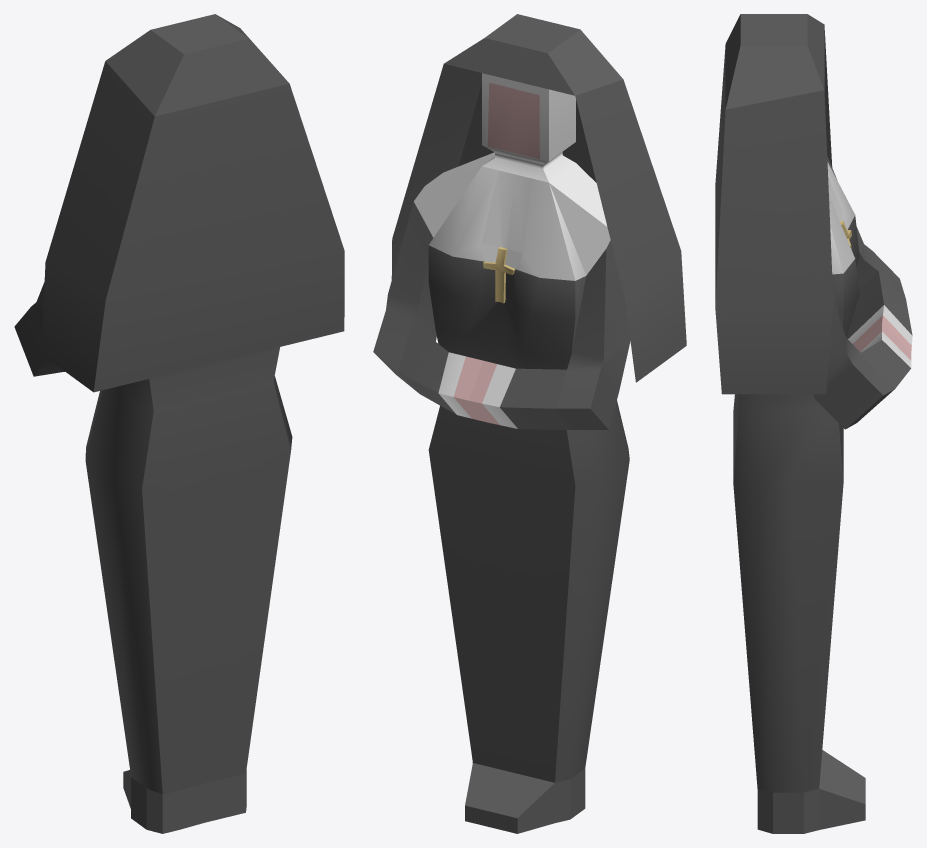
File: nun_1.fbx
3 views of the same model, side by side, from view 1: azimuth 30°, elevation 25°; view 2: azimuth 150°, elevation 25°; view 3: azimuth 270°, elevation 25° (orthographic). The views are drawn at different scales.
Parts seen in each view (by area): view 1: polySurface1; view 2: polySurface1; view 3: polySurface1.
Boxes of the visible parts, <box> form: polySurface1: <box>14,14,344,833</box>; polySurface1: <box>373,14,686,833</box>; polySurface1: <box>715,14,912,833</box>.
Bounding box in the file's own units: 12.75 × 38.03 × 8.69.
